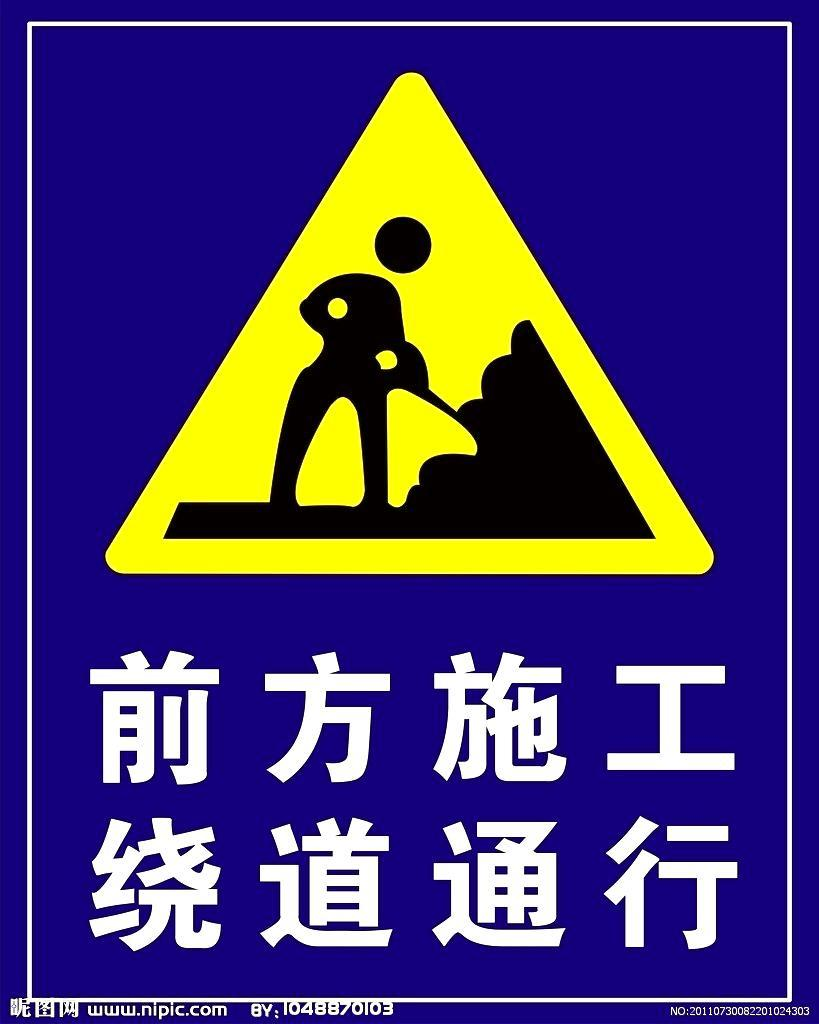sign: (23, 18, 800, 1012)
